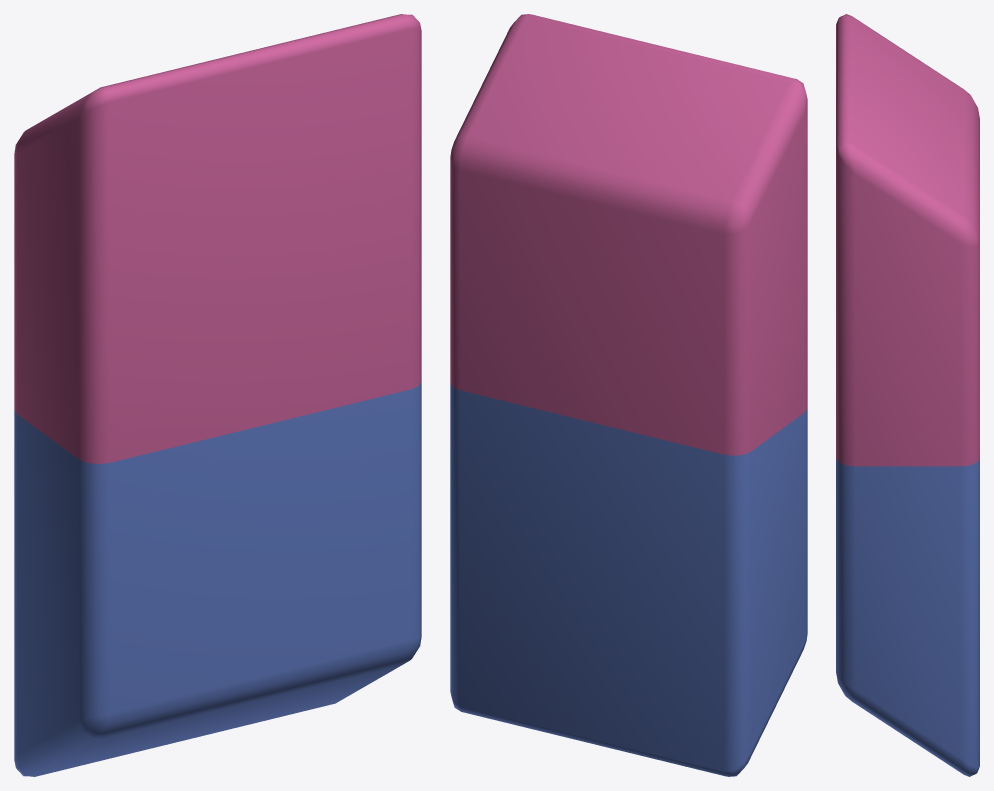
Rendered from Eraser_Icon.fbx.
3 views of the same model, side by side, from view 1: azimuth 30°, elevation 25°; view 2: azimuth 150°, elevation 25°; view 3: azimuth 270°, elevation 25° (orthographic). The views are drawn at different scales.
Visible parts, largest first — view 1: Eraser_Pencil, Eraser_Pen; view 2: Eraser_Pencil, Eraser_Pen; view 3: Eraser_Pencil, Eraser_Pen.
Part boxes in pixels (x1,y1,x2,y2): Eraser_Pencil: [14, 14, 421, 464]; Eraser_Pen: [14, 381, 421, 776]; Eraser_Pencil: [450, 14, 807, 455]; Eraser_Pen: [450, 383, 807, 776]; Eraser_Pencil: [836, 14, 979, 466]; Eraser_Pen: [836, 458, 979, 776].
Size of the model in its own units: 35 by 73.04 by 15.
